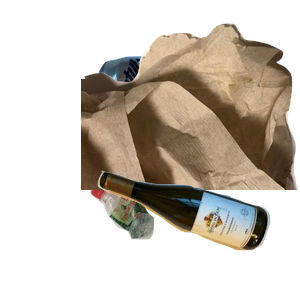glass: (95, 168, 300, 300)
metal: (84, 53, 279, 202)
plastic: (87, 178, 234, 300)
trash: (81, 21, 300, 201)
